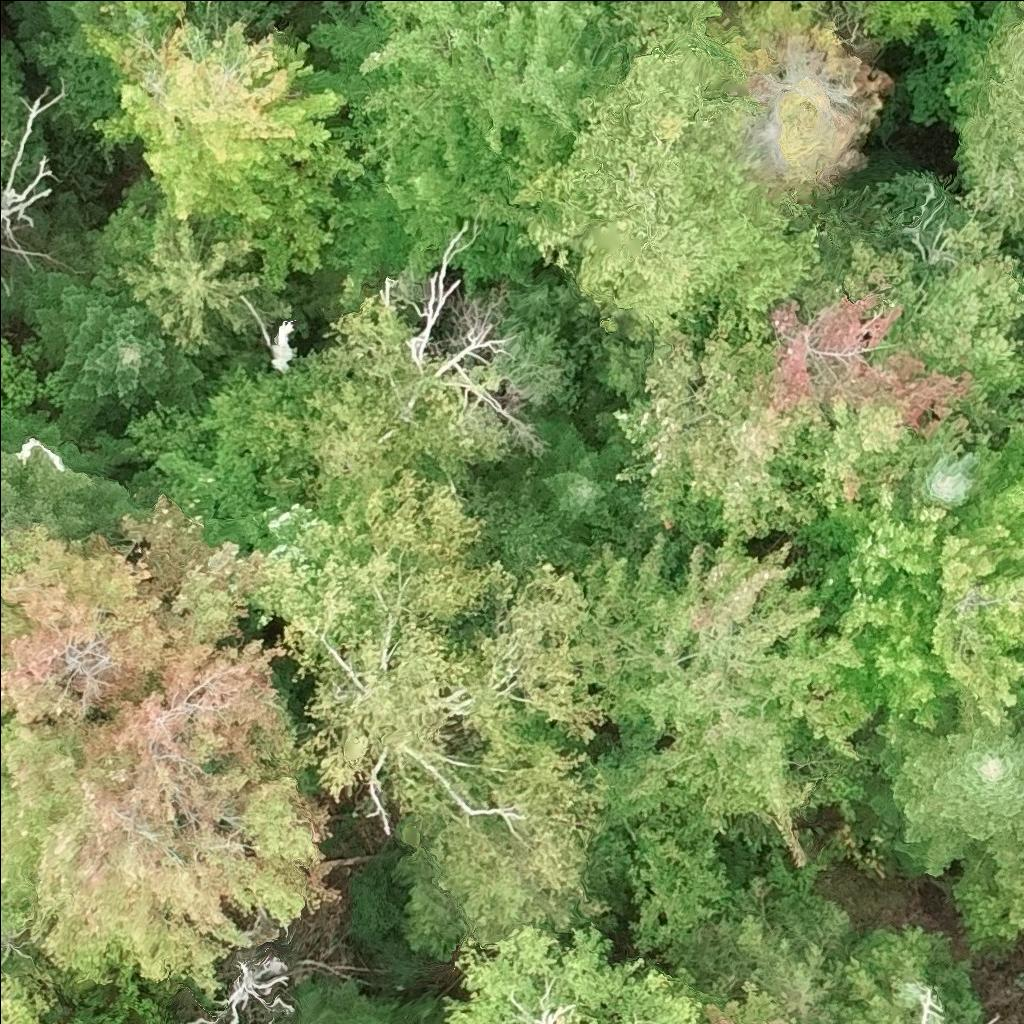crown: (249, 458, 611, 957), (602, 209, 1023, 540), (0, 636, 347, 992), (576, 526, 885, 867), (516, 0, 822, 343), (296, 0, 625, 296), (79, 19, 366, 291), (789, 418, 1023, 732), (0, 489, 276, 725), (303, 298, 508, 481), (860, 694, 1023, 883), (18, 259, 205, 422), (901, 0, 1023, 242), (113, 211, 285, 364), (431, 925, 695, 1023), (484, 416, 637, 545), (2, 0, 162, 71), (741, 915, 845, 1023), (0, 901, 78, 1023), (898, 430, 1005, 510), (182, 953, 300, 1023), (851, 0, 983, 39), (0, 40, 25, 194), (689, 989, 790, 1023), (852, 994, 900, 1023)
